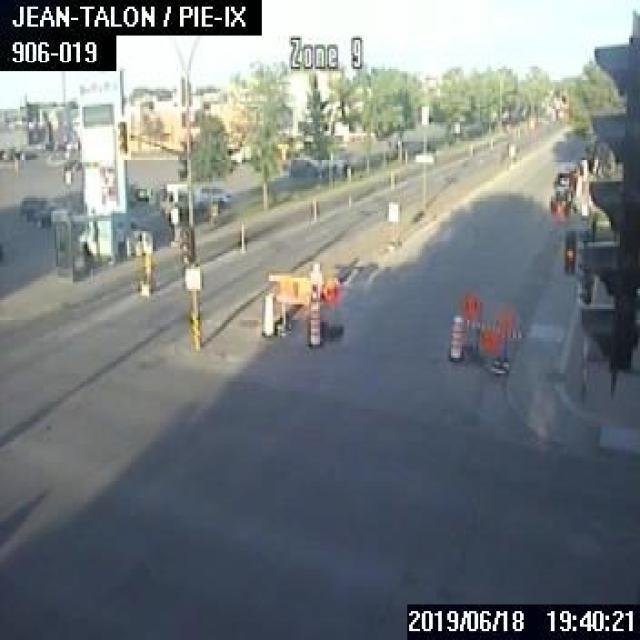construction: (264, 260, 342, 339), (459, 291, 522, 373), (445, 313, 463, 361), (305, 299, 321, 346), (260, 292, 272, 336)
vehicle: (19, 194, 55, 222), (281, 157, 323, 177), (33, 201, 64, 225), (194, 184, 231, 202), (551, 161, 575, 188), (548, 185, 572, 211)
